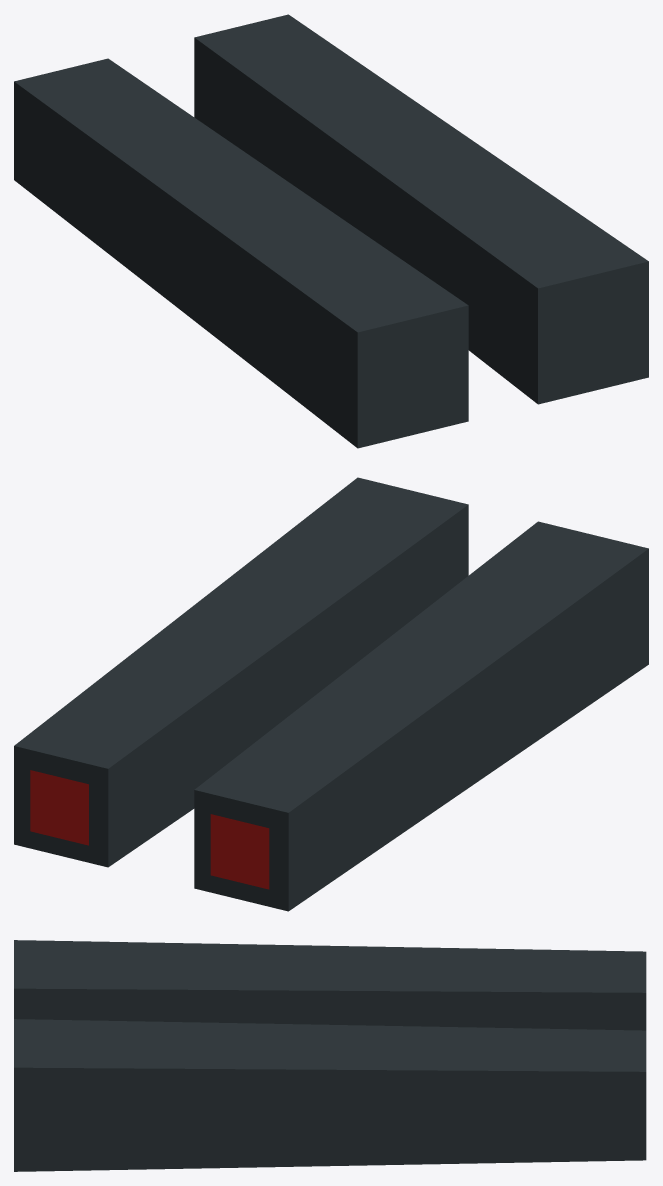
3 views of the same model, one above another, from view 1: azimuth 30°, elevation 25°; view 2: azimuth 150°, elevation 25°; view 3: azimuth 270°, elevation 25° (orthographic). The views are drawn at different scales.
Parts seen in each view (by area): view 1: mount; view 2: mount; view 3: mount.
Boxes of the visible parts, x1,y1,x2,y2 form: mount: [14, 14, 648, 448]; mount: [14, 477, 648, 911]; mount: [14, 940, 646, 1171].
Size of the model in its own units: 3.34 by 1.27 by 7.03.
